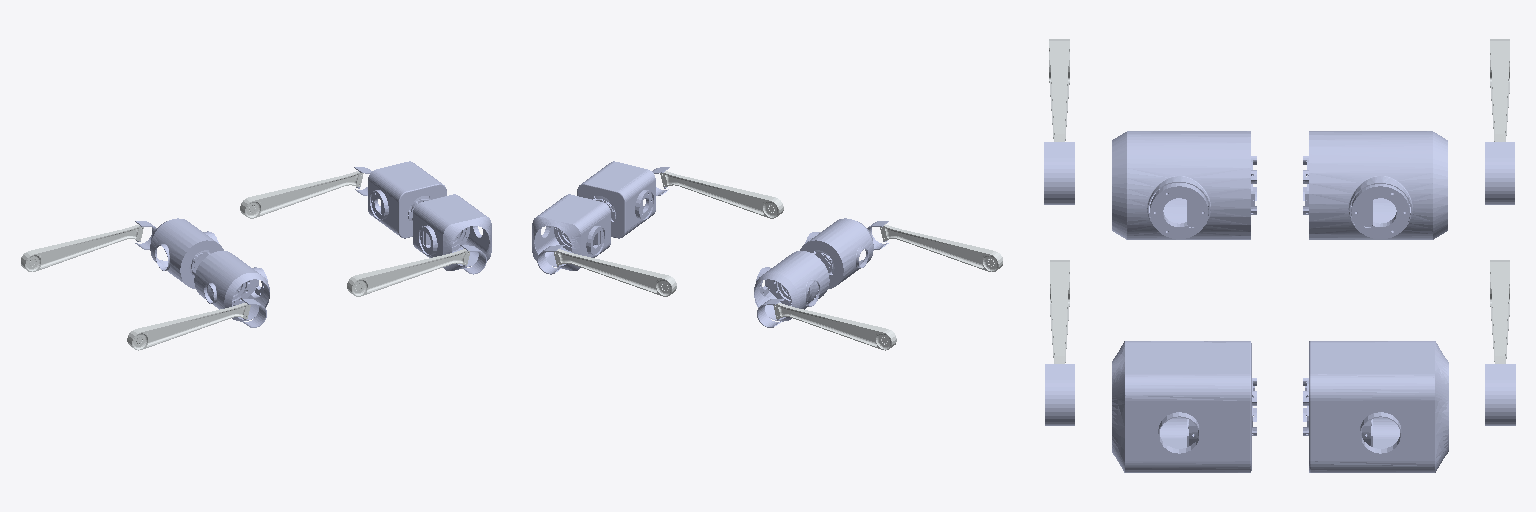
--- Facts derived from the render (not from the file) ---
Views: 3 orthographic renders of the robot side by side, from view 1: azimuth 30°, elevation 25°; view 2: azimuth 150°, elevation 25°; view 3: azimuth 270°, elevation 25°.
Model stoch_spring with 21 links and 20 joints (12 revolute, 4 prismatic, 4 fixed), rooted at base_link, posed all joints at 0.
Visible links, largest first — view 1: fr_abd_link, fl_abd_link, br_abd_link, bl_abd_link, fr_lower_leg_link, fl_lower_leg_link, bl_lower_leg_link, br_lower_leg_link; view 2: fl_abd_link, fr_abd_link, bl_abd_link, br_abd_link, fl_lower_leg_link, fr_lower_leg_link, bl_lower_leg_link, br_lower_leg_link; view 3: fl_abd_link, fr_abd_link, br_abd_link, bl_abd_link, br_spring_link, fl_spring_link, bl_spring_link, br_lower_leg_link, fr_spring_link, fl_lower_leg_link, fr_lower_leg_link, bl_lower_leg_link.
Link boxes in pixels (bbox=[...]): fr_abd_link: bbox=[413, 194, 491, 270]; fl_abd_link: bbox=[368, 161, 446, 238]; br_abd_link: bbox=[194, 251, 269, 321]; bl_abd_link: bbox=[150, 218, 223, 288]; fr_lower_leg_link: bbox=[347, 249, 469, 296]; fl_lower_leg_link: bbox=[240, 171, 363, 218]; bl_lower_leg_link: bbox=[21, 224, 143, 271]; br_lower_leg_link: bbox=[127, 303, 250, 350]; fl_abd_link: bbox=[532, 194, 610, 270]; fr_abd_link: bbox=[577, 161, 655, 238]; bl_abd_link: bbox=[754, 251, 829, 321]; br_abd_link: bbox=[800, 218, 873, 288]; fl_lower_leg_link: bbox=[554, 249, 676, 296]; fr_lower_leg_link: bbox=[660, 171, 783, 218]; bl_lower_leg_link: bbox=[773, 303, 896, 350]; br_lower_leg_link: bbox=[880, 224, 1002, 271]; fl_abd_link: bbox=[1303, 341, 1448, 472]; fr_abd_link: bbox=[1112, 341, 1256, 472]; br_abd_link: bbox=[1112, 131, 1256, 239]; bl_abd_link: bbox=[1303, 131, 1447, 239]; br_spring_link: bbox=[1044, 142, 1074, 204]; fl_spring_link: bbox=[1485, 364, 1515, 425]; bl_spring_link: bbox=[1485, 142, 1514, 204]; br_lower_leg_link: bbox=[1049, 39, 1069, 141]; fr_spring_link: bbox=[1045, 364, 1074, 425]; fl_lower_leg_link: bbox=[1490, 260, 1509, 363]; fr_lower_leg_link: bbox=[1050, 260, 1069, 363]; bl_lower_leg_link: bbox=[1490, 39, 1509, 141].
Bounding box of the posed robot: 0.9039 × 0.4676 × 0.1079 m (x, y, z).
Meshes: 21 distinct files referenced, 16 mesh visuals loaded (16 binary STL); not drawn: 5 (reference not matched to a file when rendering).

The robot description file, URDF, robot "stoch_spring":
<?xml version="1.0" encoding="utf-8"?>
<!-- This URDF was automatically created by SolidWorks to URDF Exporter! Originally created by Stephen Brawner ([email redacted]) 
     Commit Version: 1.6.0-1-g15f4949  Build Version: 1.6.7594.29634
     For more information, please see http://wiki.ros.org/sw_urdf_exporter -->
<robot
  name="stoch_spring">
  <link
    name="base_link">
    <inertial>
      <origin
        xyz="0 0 0.0026538"
        rpy="0 0 0" />
      <mass
        value="7.302" />
      <inertia
        ixx="0.0090197"
        ixy="2.2679E-06"
        ixz="6.4897E-05"
        iyy="0.0094033"
        iyz="-2.1628E-08"
        izz="0.01573" />
    </inertial>
    <visual>
      <origin
        xyz="0 0 0"
        rpy="0 0 0" />
      <geometry>
        <mesh
          filename="package://stoch_spring/meshes/base_link.STL" />
      </geometry>
      <material
        name="">
        <color
          rgba="0.75294 0.75294 0.75294 1" />
      </material>
    </visual>
    <collision>
      <origin
        xyz="0 0 0"
        rpy="0 0 0" />
      <geometry>
        <mesh
          filename="package://stoch_spring/meshes/base_link.STL" />
      </geometry>
    </collision>
  </link>
  <link
    name="fl_abd_link">
    <inertial>
      <origin
        xyz="0.070269 -0.036118 -2.5986E-07"
        rpy="0 0 0" />
      <mass
        value="0.978" />
      <inertia
        ixx="0.00045941"
        ixy="-6.723E-07"
        ixz="3.3247E-08"
        iyy="0.00059328"
        iyz="5.8809E-09"
        izz="0.00046214" />
    </inertial>
    <visual>
      <origin
        xyz="0 0 0"
        rpy="0 0 0" />
      <geometry>
        <mesh
          filename="package://stoch_spring/meshes/fl_abd_link.STL" />
      </geometry>
      <material
        name="">
        <color
          rgba="0.79216 0.81961 0.93333 1" />
      </material>
    </visual>
    <collision>
      <origin
        xyz="0 0 0"
        rpy="0 0 0" />
      <geometry>
        <mesh
          filename="package://stoch_spring/meshes/fl_abd_link.STL" />
      </geometry>
    </collision>
  </link>
  <joint
    name="fl_abd_joint"
    type="revolute">
    <origin
      xyz="0.18598 0.10004 -0.0005"
      rpy="0 0 0.00021134" />
    <parent
      link="base_link" />
    <child
      link="fl_abd_link" />
    <axis
      xyz="1 0 0" />
    <limit
      lower="-3.5708"
      upper="3.5708"
      effort="100"
      velocity="100" />
  </joint>
  <link
    name="fl_upper_leg_link">
    <inertial>
      <origin
        xyz="-0.072527 0.076425 1.3632E-05"
        rpy="0 0 0" />
      <mass
        value="1.547" />
      <inertia
        ixx="0.00031538"
        ixy="-4.0486E-06"
        ixz="-4.8939E-07"
        iyy="0.0031011"
        iyz="6.3718E-11"
        izz="0.0028703" />
    </inertial>
    <visual>
      <origin
        xyz="0 0 0"
        rpy="0 0 0" />
      <geometry>
        <mesh
          filename="package://stoch_spring/meshes/fl_upper_leg_link.STL" />
      </geometry>
      <material
        name="">
        <color
          rgba="0.79216 0.81961 0.93333 1" />
      </material>
    </visual>
    <collision>
      <origin
        xyz="0 0 0"
        rpy="0 0 0" />
      <geometry>
        <mesh
          filename="package://stoch_spring/meshes/fl_upper_leg_link.STL" />
      </geometry>
    </collision>
  </link>
  <joint
    name="fl_hip_joint"
    type="revolute">
    <origin
      xyz="0.074 -0.01975 0"
      rpy="0 0 0" />
    <parent
      link="fl_abd_link" />
    <child
      link="fl_upper_leg_link" />
    <axis
      xyz="0 -1 0" />
    <limit
      lower="-1.5708"
      upper="6.2832"
      effort="100"
      velocity="100" />
  </joint>
  <link
    name="fl_lower_leg_link">
    <inertial>
      <origin
        xyz="0.086252 5.8285E-07 0.0035444"
        rpy="0 0 0" />
      <mass
        value="0.185" />
      <inertia
        ixx="2.0675E-05"
        ixy="-2.4323E-09"
        ixz="-3.9572E-05"
        iyy="0.0010886"
        iyz="-8.8856E-10"
        izz="0.0010716" />
    </inertial>
    <visual>
      <origin
        xyz="0 0 0"
        rpy="0 0 0" />
      <geometry>
        <mesh
          filename="package://stoch_spring/meshes/fl_lower_leg_link.STL" />
      </geometry>
      <material
        name="">
        <color
          rgba="0.89804 0.91765 0.92941 1" />
      </material>
    </visual>
    <collision>
      <origin
        xyz="0 0 0"
        rpy="0 0 0" />
      <geometry>
        <mesh
          filename="package://stoch_spring/meshes/fl_lower_leg_link.STL" />
      </geometry>
    </collision>
  </link>
  <joint
    name="fl_knee_joint"
    type="revolute">
    <origin
      xyz="-0.297 0.1385 0"
      rpy="0 0 0" />
    <parent
      link="fl_upper_leg_link" />
    <child
      link="fl_lower_leg_link" />
    <axis
      xyz="0 1 0" />
    <limit
      lower="-6.28"
      upper="6.28"
      effort="100"
      velocity="100" />
  </joint>
  <link
    name="fl_spring_link">
    <inertial>
      <origin
        xyz="0.016432 -1.2088E-10 -0.025935"
        rpy="0 0 0" />
      <mass
        value="0.013" />
      <inertia
        ixx="3.4144E-06"
        ixy="7.3744E-16"
        ixz="1.5823E-07"
        iyy="4.0991E-06"
        iyz="-1.1139E-14"
        izz="1.7091E-06" />
    </inertial>
    <visual>
      <origin
        xyz="0 0 0"
        rpy="0 0 0" />
      <geometry>
        <mesh
          filename="package://stoch_spring/meshes/fl_spring_link.STL" />
      </geometry>
      <material
        name="">
        <color
          rgba="0.79216 0.81961 0.93333 1" />
      </material>
    </visual>
    <collision>
      <origin
        xyz="0 0 0"
        rpy="0 0 0" />
      <geometry>
        <mesh
          filename="package://stoch_spring/meshes/fl_spring_link.STL" />
      </geometry>
    </collision>
  </link>
  <joint
    name="fl_spring_joint"
    type="prismatic">
    <origin
      xyz="0.26294 0 0.022728"
      rpy="0 0 0" />
    <parent
      link="fl_lower_leg_link" />
    <child
      link="fl_spring_link" />
    <axis
      xyz="0.96487 0 -0.26274" />
    <limit
      lower="-0.030"
      upper="0"
      effort="100"
      velocity="100" />
  </joint>
  <link
    name="fl_end_effector_link">
    <inertial>
      <origin
        xyz="0.00030474 -7.6325E-12 -0.0016376"
        rpy="0 0 0" />
      <mass
        value="0.002" />
      <inertia
        ixx="1.2265E-09"
        ixy="1.4499E-19"
        ixz="3.1109E-11"
        iyy="3.2386E-10"
        iyz="4.7001E-18"
        izz="1.3323E-09" />
    </inertial>
    <visual>
      <origin
        xyz="0 0 0"
        rpy="0 0 0" />
      <geometry>
        <mesh
          filename="package://stoch_spring/meshes/fl_end_effector_link.STL" />
      </geometry>
      <material
        name="">
        <color
          rgba="0.79216 0.81961 0.93333 1" />
      </material>
    </visual>
    <collision>
      <origin
        xyz="0 0 0"
        rpy="0 0 0" />
      <geometry>
        <mesh
          filename="package://stoch_spring/meshes/fl_end_effector_link.STL" />
      </geometry>
    </collision>
  </link>
  <joint
    name="fl_end_effector_joint"
    type="fixed">
    <origin
      xyz="0.25316 0 -0.01044"
      rpy="0 0 0" />
    <parent
      link="fl_lower_leg_link" />
    <child
      link="fl_end_effector_link" />
    <axis
      xyz="0 0 0" />
  </joint>
  <link
    name="fr_abd_link">
    <inertial>
      <origin
        xyz="0.07027 0.036118 -2.957E-07"
        rpy="0 0 0" />
      <mass
        value="0.978" />
      <inertia
        ixx="0.00045941"
        ixy="6.965E-07"
        ixz="-3.3418E-08"
        iyy="0.00059328"
        iyz="-5.8773E-09"
        izz="0.00046214" />
    </inertial>
    <visual>
      <origin
        xyz="0 0 0"
        rpy="0 0 0" />
      <geometry>
        <mesh
          filename="package://stoch_spring/meshes/fr_abd_link.STL" />
      </geometry>
      <material
        name="">
        <color
          rgba="0.79216 0.81961 0.93333 1" />
      </material>
    </visual>
    <collision>
      <origin
        xyz="0 0 0"
        rpy="0 0 0" />
      <geometry>
        <mesh
          filename="package://stoch_spring/meshes/fr_abd_link.STL" />
      </geometry>
    </collision>
  </link>
  <joint
    name="fr_abd_joint"
    type="revolute">
    <origin
      xyz="0.18602 -0.099961 -0.0005"
      rpy="0 0 0.00021134" />
    <parent
      link="base_link" />
    <child
      link="fr_abd_link" />
    <axis
      xyz="1 0 0" />
    <limit
      lower="-3.5708"
      upper="3.5708"
      effort="100"
      velocity="100" />
  </joint>
  <link
    name="fr_upper_leg_link">
    <inertial>
      <origin
        xyz="-0.072527 -0.076425 -1.3632E-05"
        rpy="0 0 0" />
      <mass
        value="1.547" />
      <inertia
        ixx="0.00031538"
        ixy="4.0486E-06"
        ixz="4.8939E-07"
        iyy="0.0031011"
        iyz="6.3714E-11"
        izz="0.0028703" />
    </inertial>
    <visual>
      <origin
        xyz="0 0 0"
        rpy="0 0 0" />
      <geometry>
        <mesh
          filename="package://stoch_spring/meshes/fr_upper_leg_link.STL" />
      </geometry>
      <material
        name="">
        <color
          rgba="0.79216 0.81961 0.93333 1" />
      </material>
    </visual>
    <collision>
      <origin
        xyz="0 0 0"
        rpy="0 0 0" />
      <geometry>
        <mesh
          filename="package://stoch_spring/meshes/fr_upper_leg_link.STL" />
      </geometry>
    </collision>
  </link>
  <joint
    name="fr_hip_joint"
    type="revolute">
    <origin
      xyz="0.074 0.01975 0"
      rpy="0 0 0" />
    <parent
      link="fr_abd_link" />
    <child
      link="fr_upper_leg_link" />
    <axis
      xyz="0 -1 0" />
    <limit
      lower="-1.5708"
      upper="6.2832"
      effort="100"
      velocity="100" />
  </joint>
  <link
    name="fr_lower_leg_link">
    <inertial>
      <origin
        xyz="0.086252 5.8285E-07 0.0035444"
        rpy="0 0 0" />
      <mass
        value="0.185" />
      <inertia
        ixx="2.0675E-05"
        ixy="-2.4323E-09"
        ixz="-3.9572E-05"
        iyy="0.0010886"
        iyz="-8.8856E-10"
        izz="0.0010716" />
    </inertial>
    <visual>
      <origin
        xyz="0 0 0"
        rpy="0 0 0" />
      <geometry>
        <mesh
          filename="package://stoch_spring/meshes/fr_lower_leg_link.STL" />
      </geometry>
      <material
        name="">
        <color
          rgba="0.89804 0.91765 0.92941 1" />
      </material>
    </visual>
    <collision>
      <origin
        xyz="0 0 0"
        rpy="0 0 0" />
      <geometry>
        <mesh
          filename="package://stoch_spring/meshes/fr_lower_leg_link.STL" />
      </geometry>
    </collision>
  </link>
  <joint
    name="fr_knee_joint"
    type="revolute">
    <origin
      xyz="-0.297 -0.1385 0"
      rpy="0 0 0" />
    <parent
      link="fr_upper_leg_link" />
    <child
      link="fr_lower_leg_link" />
    <axis
      xyz="0 1 0" />
    <limit
      lower="-6.28"
      upper="6.28"
      effort="100"
      velocity="100" />
  </joint>
  <link
    name="fr_spring_link">
    <inertial>
      <origin
        xyz="0.016432 -1.2088E-10 -0.025935"
        rpy="0 0 0" />
      <mass
        value="0.013" />
      <inertia
        ixx="3.4144E-06"
        ixy="7.3744E-16"
        ixz="1.5823E-07"
        iyy="4.0991E-06"
        iyz="-1.1139E-14"
        izz="1.7091E-06" />
    </inertial>
    <visual>
      <origin
        xyz="0 0 0"
        rpy="0 0 0" />
      <geometry>
        <mesh
          filename="package://stoch_spring/meshes/fr_spring_link.STL" />
      </geometry>
      <material
        name="">
        <color
          rgba="0.79216 0.81961 0.93333 1" />
      </material>
    </visual>
    <collision>
      <origin
        xyz="0 0 0"
        rpy="0 0 0" />
      <geometry>
        <mesh
          filename="package://stoch_spring/meshes/fr_spring_link.STL" />
      </geometry>
    </collision>
  </link>
  <joint
    name="fr_spring_joint"
    type="prismatic">
    <origin
      xyz="0.26294 0 0.022728"
      rpy="0 0 0" />
    <parent
      link="fr_lower_leg_link" />
    <child
      link="fr_spring_link" />
    <axis
      xyz="0.96487 0 -0.26274" />
    <limit
      lower="-0.030"
      upper="0"
      effort="100"
      velocity="100" />
  </joint>
  <link
    name="fr_end_effector_link">
    <inertial>
      <origin
        xyz="0.00030474 -7.6323E-12 -0.0016376"
        rpy="0 0 0" />
      <mass
        value="0.002" />
      <inertia
        ixx="1.2265E-09"
        ixy="1.4499E-19"
        ixz="3.1109E-11"
        iyy="3.2386E-10"
        iyz="4.7001E-18"
        izz="1.3323E-09" />
    </inertial>
    <visual>
      <origin
        xyz="0 0 0"
        rpy="0 0 0" />
      <geometry>
        <mesh
          filename="package://stoch_spring/meshes/fr_end_effector_link.STL" />
      </geometry>
      <material
        name="">
        <color
          rgba="0.79216 0.81961 0.93333 1" />
      </material>
    </visual>
    <collision>
      <origin
        xyz="0 0 0"
        rpy="0 0 0" />
      <geometry>
        <mesh
          filename="package://stoch_spring/meshes/fr_end_effector_link.STL" />
      </geometry>
    </collision>
  </link>
  <joint
    name="fr_end_effector_joint"
    type="fixed">
    <origin
      xyz="0.25316 0 -0.01044"
      rpy="0 0 0" />
    <parent
      link="fr_lower_leg_link" />
    <child
      link="fr_end_effector_link" />
    <axis
      xyz="0 0 0" />
  </joint>
  <link
    name="bl_abd_link">
    <inertial>
      <origin
        xyz="-0.069942 -0.037337 -1.868E-06"
        rpy="0 0 0" />
      <mass
        value="0.978" />
      <inertia
        ixx="0.00039025"
        ixy="3.5854E-08"
        ixz="1.1626E-07"
        iyy="0.00050148"
        iyz="5.3875E-09"
        izz="0.00037524" />
    </inertial>
    <visual>
      <origin
        xyz="0 0 0"
        rpy="0 0 0" />
      <geometry>
        <mesh
          filename="package://stoch_spring/meshes/bl_abd_link.STL" />
      </geometry>
      <material
        name="">
        <color
          rgba="0.79216 0.81961 0.93333 1" />
      </material>
    </visual>
    <collision>
      <origin
        xyz="0 0 0"
        rpy="0 0 0" />
      <geometry>
        <mesh
          filename="package://stoch_spring/meshes/bl_abd_link.STL" />
      </geometry>
    </collision>
  </link>
  <joint
    name="bl_abd_joint"
    type="revolute">
    <origin
      xyz="-0.18602 0.099961 -0.0005"
      rpy="0 0 0" />
    <parent
      link="base_link" />
    <child
      link="bl_abd_link" />
    <axis
      xyz="-1 -0.00021136 0" />
    <limit
      lower="-3.5708"
      upper="3.5708"
      effort="100"
      velocity="100" />
  </joint>
  <link
    name="bl_upper_leg_link">
    <inertial>
      <origin
        xyz="-0.072543 0.076409 1.3632E-05"
        rpy="0 0 0" />
      <mass
        value="1.547" />
      <inertia
        ixx="0.00031539"
        ixy="-4.6374E-06"
        ixz="-4.8939E-07"
        iyy="0.0031011"
        iyz="-3.9719E-11"
        izz="0.0028703" />
    </inertial>
    <visual>
      <origin
        xyz="0 0 0"
        rpy="0 0 0" />
      <geometry>
        <mesh
          filename="package://stoch_spring/meshes/bl_upper_leg_link.STL" />
      </geometry>
      <material
        name="">
        <color
          rgba="0.79216 0.81961 0.93333 1" />
      </material>
    </visual>
    <collision>
      <origin
        xyz="0 0 0"
        rpy="0 0 0" />
      <geometry>
        <mesh
          filename="package://stoch_spring/meshes/bl_upper_leg_link.STL" />
      </geometry>
    </collision>
  </link>
  <joint
    name="bl_hip_joint"
    type="revolute">
    <origin
      xyz="-0.073996 -0.019766 0"
      rpy="0 0 0" />
    <parent
      link="bl_abd_link" />
    <child
      link="bl_upper_leg_link" />
    <axis
      xyz="0.00021136 -1 0" />
    <limit
      lower="-1.5708"
      upper="6.2832"
      effort="100"
      velocity="100" />
  </joint>
  <link
    name="bl_lower_leg_link">
    <inertial>
      <origin
        xyz="0.086252 1.8813E-05 0.0035444"
        rpy="0 0 0" />
      <mass
        value="0.185" />
      <inertia
        ixx="2.0675E-05"
        ixy="-2.2814E-07"
        ixz="-3.9572E-05"
        iyy="0.0010886"
        iyz="-9.2525E-09"
        izz="0.0010716" />
    </inertial>
    <visual>
      <origin
        xyz="0 0 0"
        rpy="0 0 0" />
      <geometry>
        <mesh
          filename="package://stoch_spring/meshes/bl_lower_leg_link.STL" />
      </geometry>
      <material
        name="">
        <color
          rgba="0.89804 0.91765 0.92941 1" />
      </material>
    </visual>
    <collision>
      <origin
        xyz="0 0 0"
        rpy="0 0 0" />
      <geometry>
        <mesh
          filename="package://stoch_spring/meshes/bl_lower_leg_link.STL" />
      </geometry>
    </collision>
  </link>
  <joint
    name="bl_knee_joint"
    type="revolute">
    <origin
      xyz="-0.29703 0.13844 0"
      rpy="0 0 0" />
    <parent
      link="bl_upper_leg_link" />
    <child
      link="bl_lower_leg_link" />
    <axis
      xyz="-0.00021136 1 0" />
    <limit
      lower="-6.28"
      upper="6.28"
      effort="100"
      velocity="100" />
  </joint>
  <link
    name="bl_spring_link">
    <inertial>
      <origin
        xyz="0.016432 3.4731E-06 -0.025935"
        rpy="0 0 0" />
      <mass
        value="0.013" />
      <inertia
        ixx="3.4144E-06"
        ixy="-1.4471E-10"
        ixz="1.5823E-07"
        iyy="4.0991E-06"
        iyz="3.3432E-11"
        izz="1.7091E-06" />
    </inertial>
    <visual>
      <origin
        xyz="0 0 0"
        rpy="0 0 0" />
      <geometry>
        <mesh
          filename="package://stoch_spring/meshes/bl_spring_link.STL" />
      </geometry>
      <material
        name="">
        <color
          rgba="0.79216 0.81961 0.93333 1" />
      </material>
    </visual>
    <collision>
      <origin
        xyz="0 0 0"
        rpy="0 0 0" />
      <geometry>
        <mesh
          filename="package://stoch_spring/meshes/bl_spring_link.STL" />
      </geometry>
    </collision>
  </link>
  <joint
    name="bl_spring_joint"
    type="prismatic">
    <origin
      xyz="0.26294 5.5576E-05 0.022728"
      rpy="0 0 0" />
    <parent
      link="bl_lower_leg_link" />
    <child
      link="bl_spring_link" />
    <axis
      xyz="0.96487 0.00020393 -0.26274" />
    <limit
      lower="-0.030"
      upper="0"
      effort="100"
      velocity="100" />
  </joint>
  <link
    name="bl_end_effector_link">
    <inertial>
      <origin
        xyz="0.00030474 -7.6323E-12 -0.0016376"
        rpy="0 0 0" />
      <mass
        value="0.002" />
      <inertia
        ixx="1.2265E-09"
        ixy="1.4499E-19"
        ixz="3.1109E-11"
        iyy="3.2386E-10"
        iyz="4.7001E-18"
        izz="1.3323E-09" />
    </inertial>
    <visual>
      <origin
        xyz="0 0 0"
        rpy="0 0 0" />
      <geometry>
        <mesh
          filename="package://stoch_spring/meshes/bl_end_effector_link.STL" />
      </geometry>
      <material
        name="">
        <color
          rgba="0.79216 0.81961 0.93333 1" />
      </material>
    </visual>
    <collision>
      <origin
        xyz="0 0 0"
        rpy="0 0 0" />
      <geometry>
        <mesh
          filename="package://stoch_spring/meshes/bl_end_effector_link.STL" />
      </geometry>
    </collision>
  </link>
  <joint
    name="bl_end_effector_joint"
    type="fixed">
    <origin
      xyz="0.25316 5.3508E-05 -0.01044"
      rpy="0 0 0.00021136" />
    <parent
      link="bl_lower_leg_link" />
    <child
      link="bl_end_effector_link" />
    <axis
      xyz="0 0 0" />
  </joint>
  <link
    name="br_abd_link">
    <inertial>
      <origin
        xyz="-0.070181 0.037273 -1.5886E-07"
        rpy="0 0 0" />
      <mass
        value="0.978" />
      <inertia
        ixx="0.00038996"
        ixy="-9.3213E-07"
        ixz="-8.0337E-08"
        iyy="0.00050185"
        iyz="-1.1127E-09"
        izz="0.00037578" />
    </inertial>
    <visual>
      <origin
        xyz="0 0 0"
        rpy="0 0 0" />
      <geometry>
        <mesh
          filename="package://stoch_spring/meshes/br_abd_link.STL" />
      </geometry>
      <material
        name="">
        <color
          rgba="0.79216 0.81961 0.93333 1" />
      </material>
    </visual>
    <collision>
      <origin
        xyz="0 0 0"
        rpy="0 0 0" />
      <geometry>
        <mesh
          filename="package://stoch_spring/meshes/br_abd_link.STL" />
      </geometry>
    </collision>
  </link>
  <joint
    name="br_abd_joint"
    type="revolute">
    <origin
      xyz="-0.18598 -0.10004 -0.0005"
      rpy="0 0 0" />
    <parent
      link="base_link" />
    <child
      link="br_abd_link" />
    <axis
      xyz="-1 -0.00021136 0" />
    <limit
      lower="-3.5708"
      upper="3.5708"
      effort="100"
      velocity="100" />
  </joint>
  <link
    name="br_upper_leg_link">
    <inertial>
      <origin
        xyz="-0.072511 -0.07644 -1.3632E-05"
        rpy="0 0 0" />
      <mass
        value="1.547" />
      <inertia
        ixx="0.00031538"
        ixy="3.4598E-06"
        ixz="4.8939E-07"
        iyy="0.0031011"
        iyz="1.6716E-10"
        izz="0.0028703" />
    </inertial>
    <visual>
      <origin
        xyz="0 0 0"
        rpy="0 0 0" />
      <geometry>
        <mesh
          filename="package://stoch_spring/meshes/br_upper_leg_link.STL" />
      </geometry>
      <material
        name="">
        <color
          rgba="0.79216 0.81961 0.93333 1" />
      </material>
    </visual>
    <collision>
      <origin
        xyz="0 0 0"
        rpy="0 0 0" />
      <geometry>
        <mesh
          filename="package://stoch_spring/meshes/br_upper_leg_link.STL" />
      </geometry>
    </collision>
  </link>
  <joint
    name="br_hip_joint"
    type="revolute">
    <origin
      xyz="-0.074004 0.019734 0"
      rpy="0 0 0" />
    <parent
      link="br_abd_link" />
    <child
      link="br_upper_leg_link" />
    <axis
      xyz="0 -1 0" />
    <limit
      lower="-1.5708"
      upper="6.2832"
      effort="100"
      velocity="100" />
  </joint>
  <link
    name="br_lower_leg_link">
    <inertial>
      <origin
        xyz="0.086252 1.8813E-05 0.0035444"
        rpy="0 0 0" />
      <mass
        value="0.185" />
      <inertia
        ixx="2.0675E-05"
        ixy="-2.2814E-07"
        ixz="-3.9572E-05"
        iyy="0.0010886"
        iyz="-9.2525E-09"
        izz="0.0010716" />
    </inertial>
    <visual>
      <origin
        xyz="0 0 0"
        rpy="0 0 0" />
      <geometry>
        <mesh
          filename="package://stoch_spring/meshes/br_lower_leg_link.STL" />
      </geometry>
      <material
        name="">
        <color
          rgba="0.89804 0.91765 0.92941 1" />
      </material>
    </visual>
    <collision>
      <origin
        xyz="0 0 0"
        rpy="0 0 0" />
      <geometry>
        <mesh
          filename="package://stoch_spring/meshes/br_lower_leg_link.STL" />
      </geometry>
    </collision>
  </link>
  <joint
    name="br_knee_joint"
    type="revolute">
    <origin
      xyz="-0.29697 -0.13856 0"
      rpy="0 0 0" />
    <parent
      link="br_upper_leg_link" />
    <child
      link="br_lower_leg_link" />
    <axis
      xyz="0 1 0" />
    <limit
      lower="-6.28"
      upper="6.28"
      effort="100"
      velocity="100" />
  </joint>
  <link
    name="br_spring_link">
    <inertial>
      <origin
        xyz="0.016432 -1.2088E-10 -0.025935"
        rpy="0 0 0" />
      <mass
        value="0.013" />
      <inertia
        ixx="3.4144E-06"
        ixy="7.3745E-16"
        ixz="1.5823E-07"
        iyy="4.0991E-06"
        iyz="-1.1139E-14"
        izz="1.7091E-06" />
    </inertial>
    <visual>
      <origin
        xyz="0 0 0"
        rpy="0 0 0" />
      <geometry>
        <mesh
          filename="package://stoch_spring/meshes/br_spring_link.STL" />
      </geometry>
      <material
        name="">
        <color
          rgba="0.79216 0.81961 0.93333 1" />
      </material>
    </visual>
    <collision>
      <origin
        xyz="0 0 0"
        rpy="0 0 0" />
      <geometry>
        <mesh
          filename="package://stoch_spring/meshes/br_spring_link.STL" />
      </geometry>
    </collision>
  </link>
  <joint
    name="br_spring_joint"
    type="prismatic">
    <origin
      xyz="0.26294 5.5576E-05 0.022728"
      rpy="0 0 0.00021136" />
    <parent
      link="br_lower_leg_link" />
    <child
      link="br_spring_link" />
    <axis
      xyz="0.96487 0 -0.26274" />
    <limit
      lower="-0.030"
      upper="0"
      effort="100"
      velocity="100" />
  </joint>
  <link
    name="br_end_effector_link">
    <inertial>
      <origin
        xyz="0.00030474 -7.6324E-12 -0.0016376"
        rpy="0 0 0" />
      <mass
        value="0.002" />
      <inertia
        ixx="1.2265E-09"
        ixy="1.4499E-19"
        ixz="3.1109E-11"
        iyy="3.2386E-10"
        iyz="4.7001E-18"
        izz="1.3323E-09" />
    </inertial>
    <visual>
      <origin
        xyz="0 0 0"
        rpy="0 0 0" />
      <geometry>
        <mesh
          filename="package://stoch_spring/meshes/br_end_effector_link.STL" />
      </geometry>
      <material
        name="">
        <color
          rgba="0.79216 0.81961 0.93333 1" />
      </material>
    </visual>
    <collision>
      <origin
        xyz="0 0 0"
        rpy="0 0 0" />
      <geometry>
        <mesh
          filename="package://stoch_spring/meshes/br_end_effector_link.STL" />
      </geometry>
    </collision>
  </link>
  <joint
    name="br_end_effector_joint"
    type="fixed">
    <origin
      xyz="0.25316 5.3508E-05 -0.01044"
      rpy="0 0 0.00021136" />
    <parent
      link="br_lower_leg_link" />
    <child
      link="br_end_effector_link" />
    <axis
      xyz="0 0 0" />
  </joint>
</robot>
